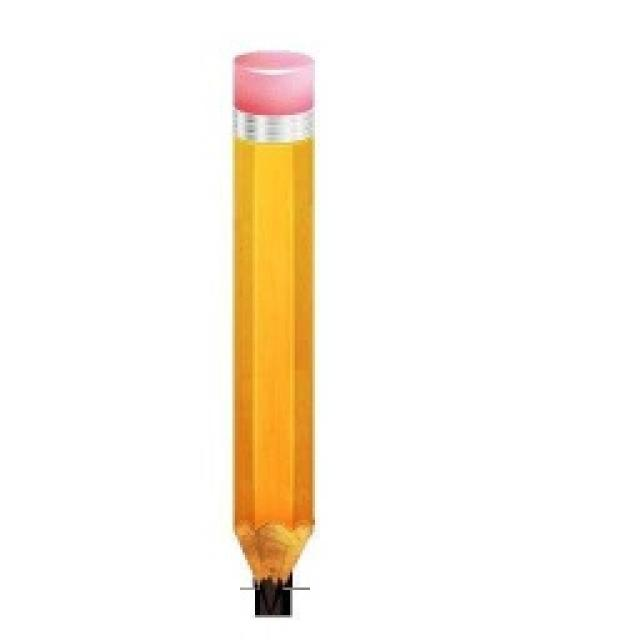pencil: (228, 45, 320, 617)
